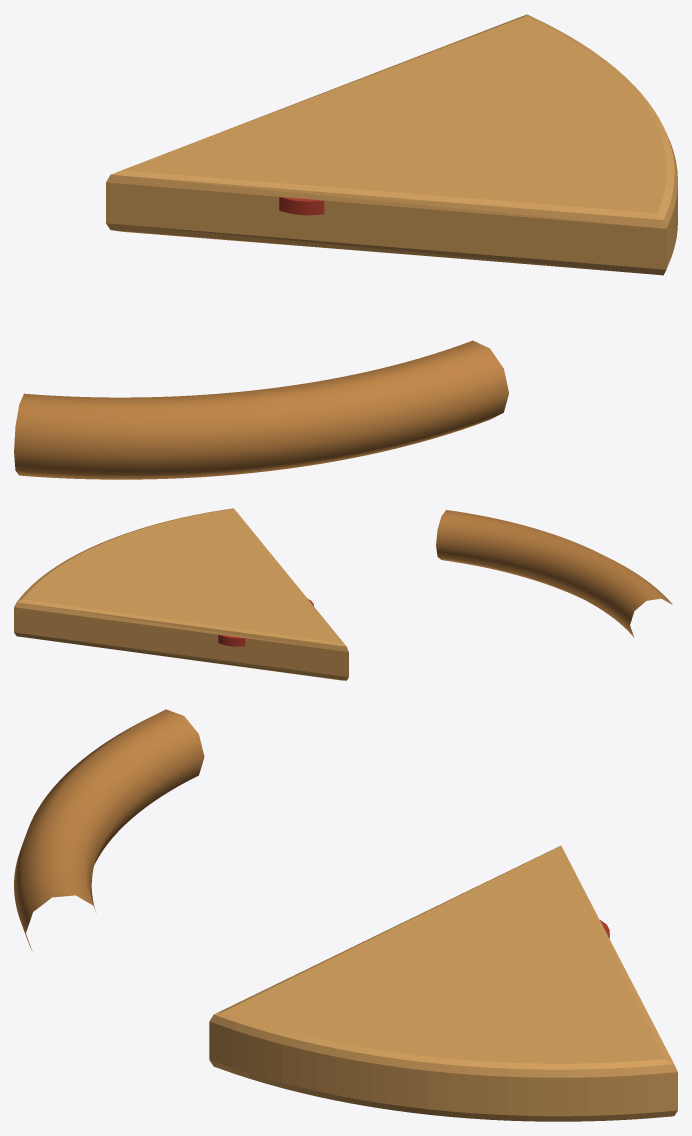
File: pizza.glb
3 views of the same model, one above another, from view 1: azimuth 30°, elevation 25°; view 2: azimuth 150°, elevation 25°; view 3: azimuth 270°, elevation 25° (orthographic). The views are drawn at different scales.
Visible parts, largest first — view 1: pizza, Pepperoni; view 2: pizza, Pepperoni; view 3: pizza.
Part boxes in pixels (box(x1,y1,x2,y2)): pizza: box(14, 14, 677, 479); Pepperoni: box(279, 197, 324, 215); pizza: box(14, 508, 672, 680); Pepperoni: box(218, 634, 245, 646); pizza: box(14, 709, 677, 1121).
Bounding box in the file's own units: 2.48 × 0.2246 × 1.88.
